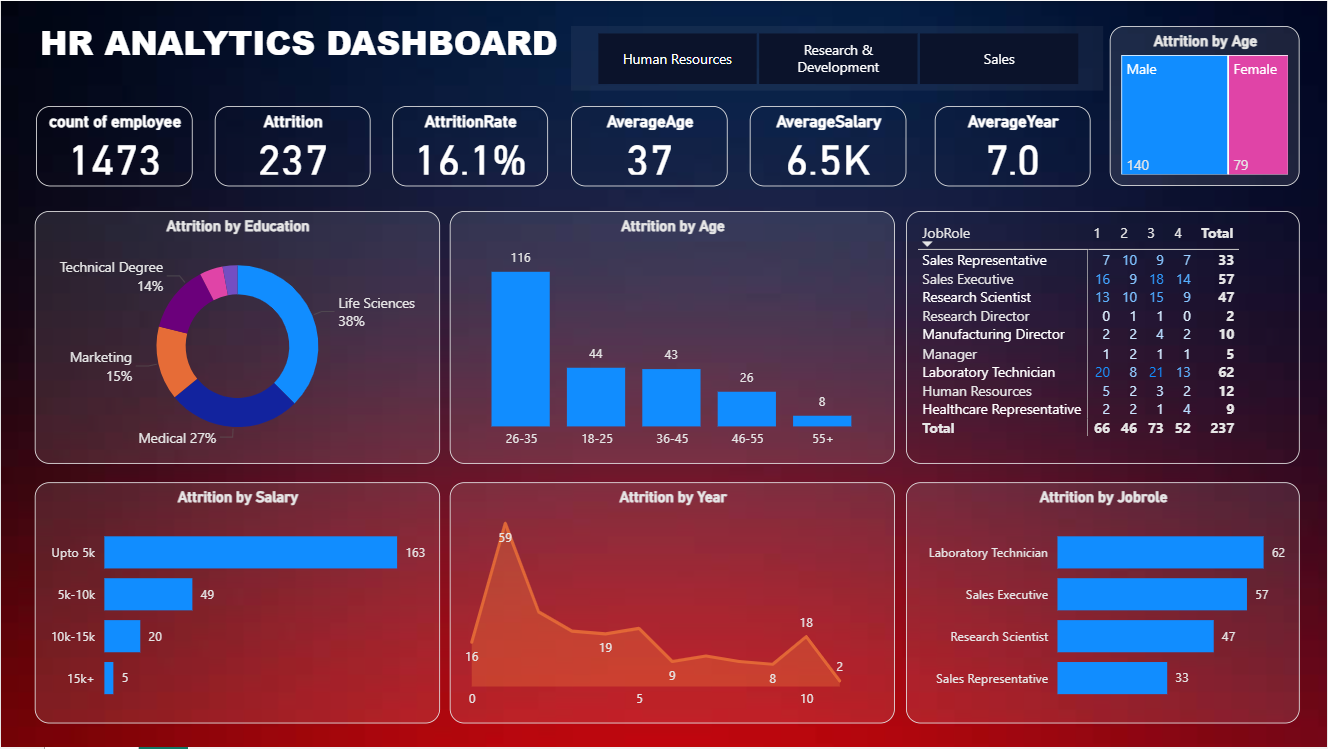

The page's visual inventory and layout, read from the dashboard file:
{"tool":"powerbi","page":{"name":"Page 1","canvas":[1280,720],"ordinal":0},"visuals":[{"type":"card","title":"count of employee","fields":{"Values":["CountNonNull(HR_Analytics.EmpID)"]},"box":[33.8,101.2,151.2,77.5],"z":0},{"type":"card","title":"Attrition","fields":{"Values":["Sum(HR_Analytics.AttritionCount)"]},"box":[206.2,101.2,150,77.5],"z":1000},{"type":"card","title":"AttritionRate","fields":{"Values":["HR_Analytics.AttritionRate"]},"box":[377.5,101.2,150,77.5],"z":2000},{"type":"card","title":"AverageAge","fields":{"Values":["Avg(HR_Analytics.Age)"]},"box":[550,101.2,151.2,77.5],"z":3000},{"type":"card","title":"AverageSalary","fields":{"Values":["Avg(HR_Analytics.MonthlyIncome)"]},"box":[722.5,101.2,151.2,77.5],"z":4000},{"type":"card","title":"AverageYear","fields":{"Values":["Avg(HR_Analytics.YearsAtCompany)"]},"box":[901.2,101.2,150,77.5],"z":5000},{"type":"donutChart","title":"Attrition by Education","fields":{"Category":["HR_Analytics.EducationField"],"Y":["Sum(HR_Analytics.AttritionCount)"]},"box":[32.6,202.7,390.9,243.7],"z":6000},{"type":"columnChart","title":"Attrition by Age","fields":{"Category":["HR_Analytics.AgeGroup"],"Y":["Sum(HR_Analytics.AttritionCount)"]},"box":[433.1,202.7,429.5,243.7],"z":7000},{"type":"pivotTable","fields":{"Rows":["HR_Analytics.JobRole"],"Columns":["HR_Analytics.JobSatisfaction"],"Values":["Sum(HR_Analytics.AttritionCount)"]},"box":[873.5,202.7,380,243.7],"z":8000},{"type":"barChart","title":"Attrition by Salary","fields":{"Category":["HR_Analytics.SalarySlab"],"Y":["Sum(HR_Analytics.AttritionCount)"]},"box":[32.6,464.5,390.9,232.8],"z":9000},{"type":"barChart","title":"Attrition by Jobrole","fields":{"Y":["Sum(HR_Analytics.AttritionCount)"],"Category":["HR_Analytics.JobRole"]},"box":[873.5,464.5,380,232.8],"z":10000},{"type":"areaChart","title":"Attrition by Year","fields":{"Category":["HR_Analytics.YearsAtCompany"],"Y":["Sum(HR_Analytics.AttritionCount)"]},"box":[433.1,464.5,429.5,232.8],"z":11000},{"type":"treemap","title":"Attrition by Age","fields":{"Group":["HR_Analytics.Gender"],"Values":["Sum(HR_Analytics.AttritionCount)"]},"box":[1070.1,24.1,183.4,154.4],"z":12000},{"type":"textbox","box":[32.6,12.1,555,55.5],"z":14000},{"type":"slicer","fields":{"Values":["HR_Analytics.Department"]},"box":[550.1,24.1,513.9,62.7],"z":14001}]}

Visuals, with their boxes in screenshot pixels (x1, y1, x2, y2), scaled from the page's 1280x720 canvas onto the 1328x749 screenshot:
"count of employee" card: bbox=[35, 105, 192, 186]
"Attrition" card: bbox=[214, 105, 370, 186]
"AttritionRate" card: bbox=[392, 105, 547, 186]
"AverageAge" card: bbox=[571, 105, 727, 186]
"AverageSalary" card: bbox=[750, 105, 906, 186]
"AverageYear" card: bbox=[935, 105, 1091, 186]
"Attrition by Education" donutChart: bbox=[34, 211, 439, 464]
"Attrition by Age" columnChart: bbox=[449, 211, 895, 464]
pivotTable - HR_Analytics.JobRole x HR_Analytics.JobSatisfaction: bbox=[906, 211, 1301, 464]
"Attrition by Salary" barChart: bbox=[34, 483, 439, 725]
"Attrition by Jobrole" barChart: bbox=[906, 483, 1301, 725]
"Attrition by Year" areaChart: bbox=[449, 483, 895, 725]
"Attrition by Age" treemap: bbox=[1110, 25, 1301, 186]
textbox: bbox=[34, 13, 610, 70]
slicer - HR_Analytics.Department: bbox=[571, 25, 1104, 90]
